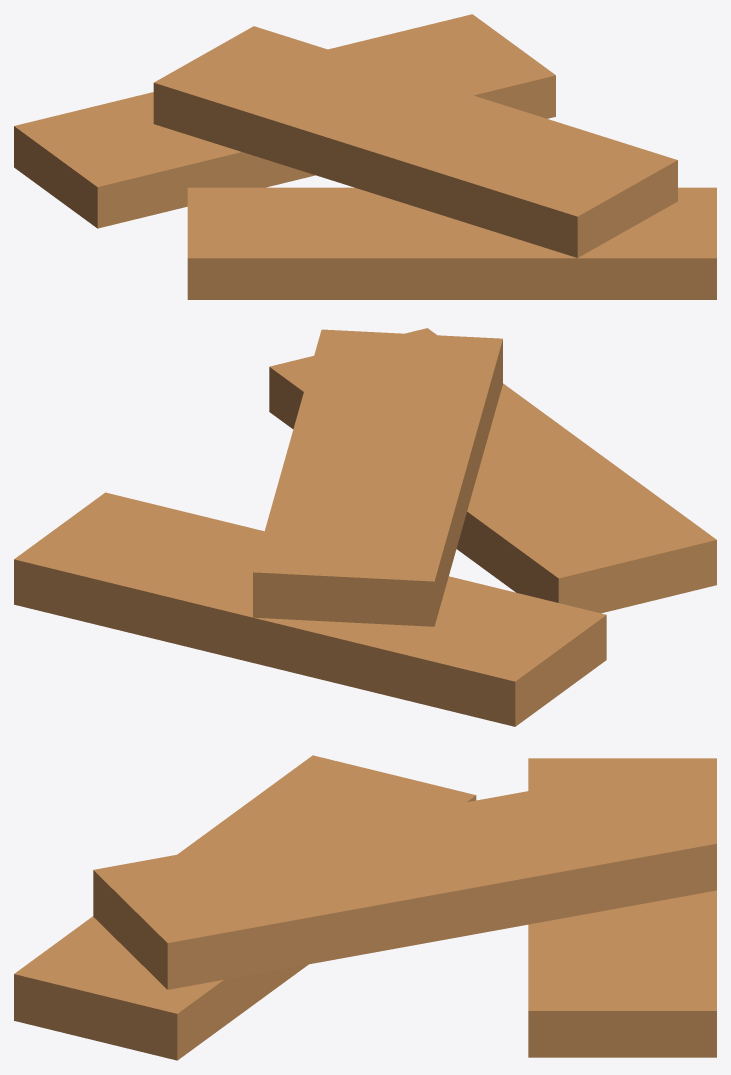
Rendered from debrisWood.fbx.
3 views of the same model, one above another, from view 1: azimuth 30°, elevation 25°; view 2: azimuth 150°, elevation 25°; view 3: azimuth 270°, elevation 25° (orthographic). The views are drawn at different scales.
Visible parts, largest first — view 1: debrisWood; view 2: debrisWood; view 3: debrisWood.
Part boxes in pixels (box(x1,y1,x2,y2)): debrisWood: box(14, 14, 716, 299); debrisWood: box(14, 328, 716, 726); debrisWood: box(14, 755, 716, 1060).
Bounding box in the file's own units: 4.67 × 0.7872 × 5.36.
